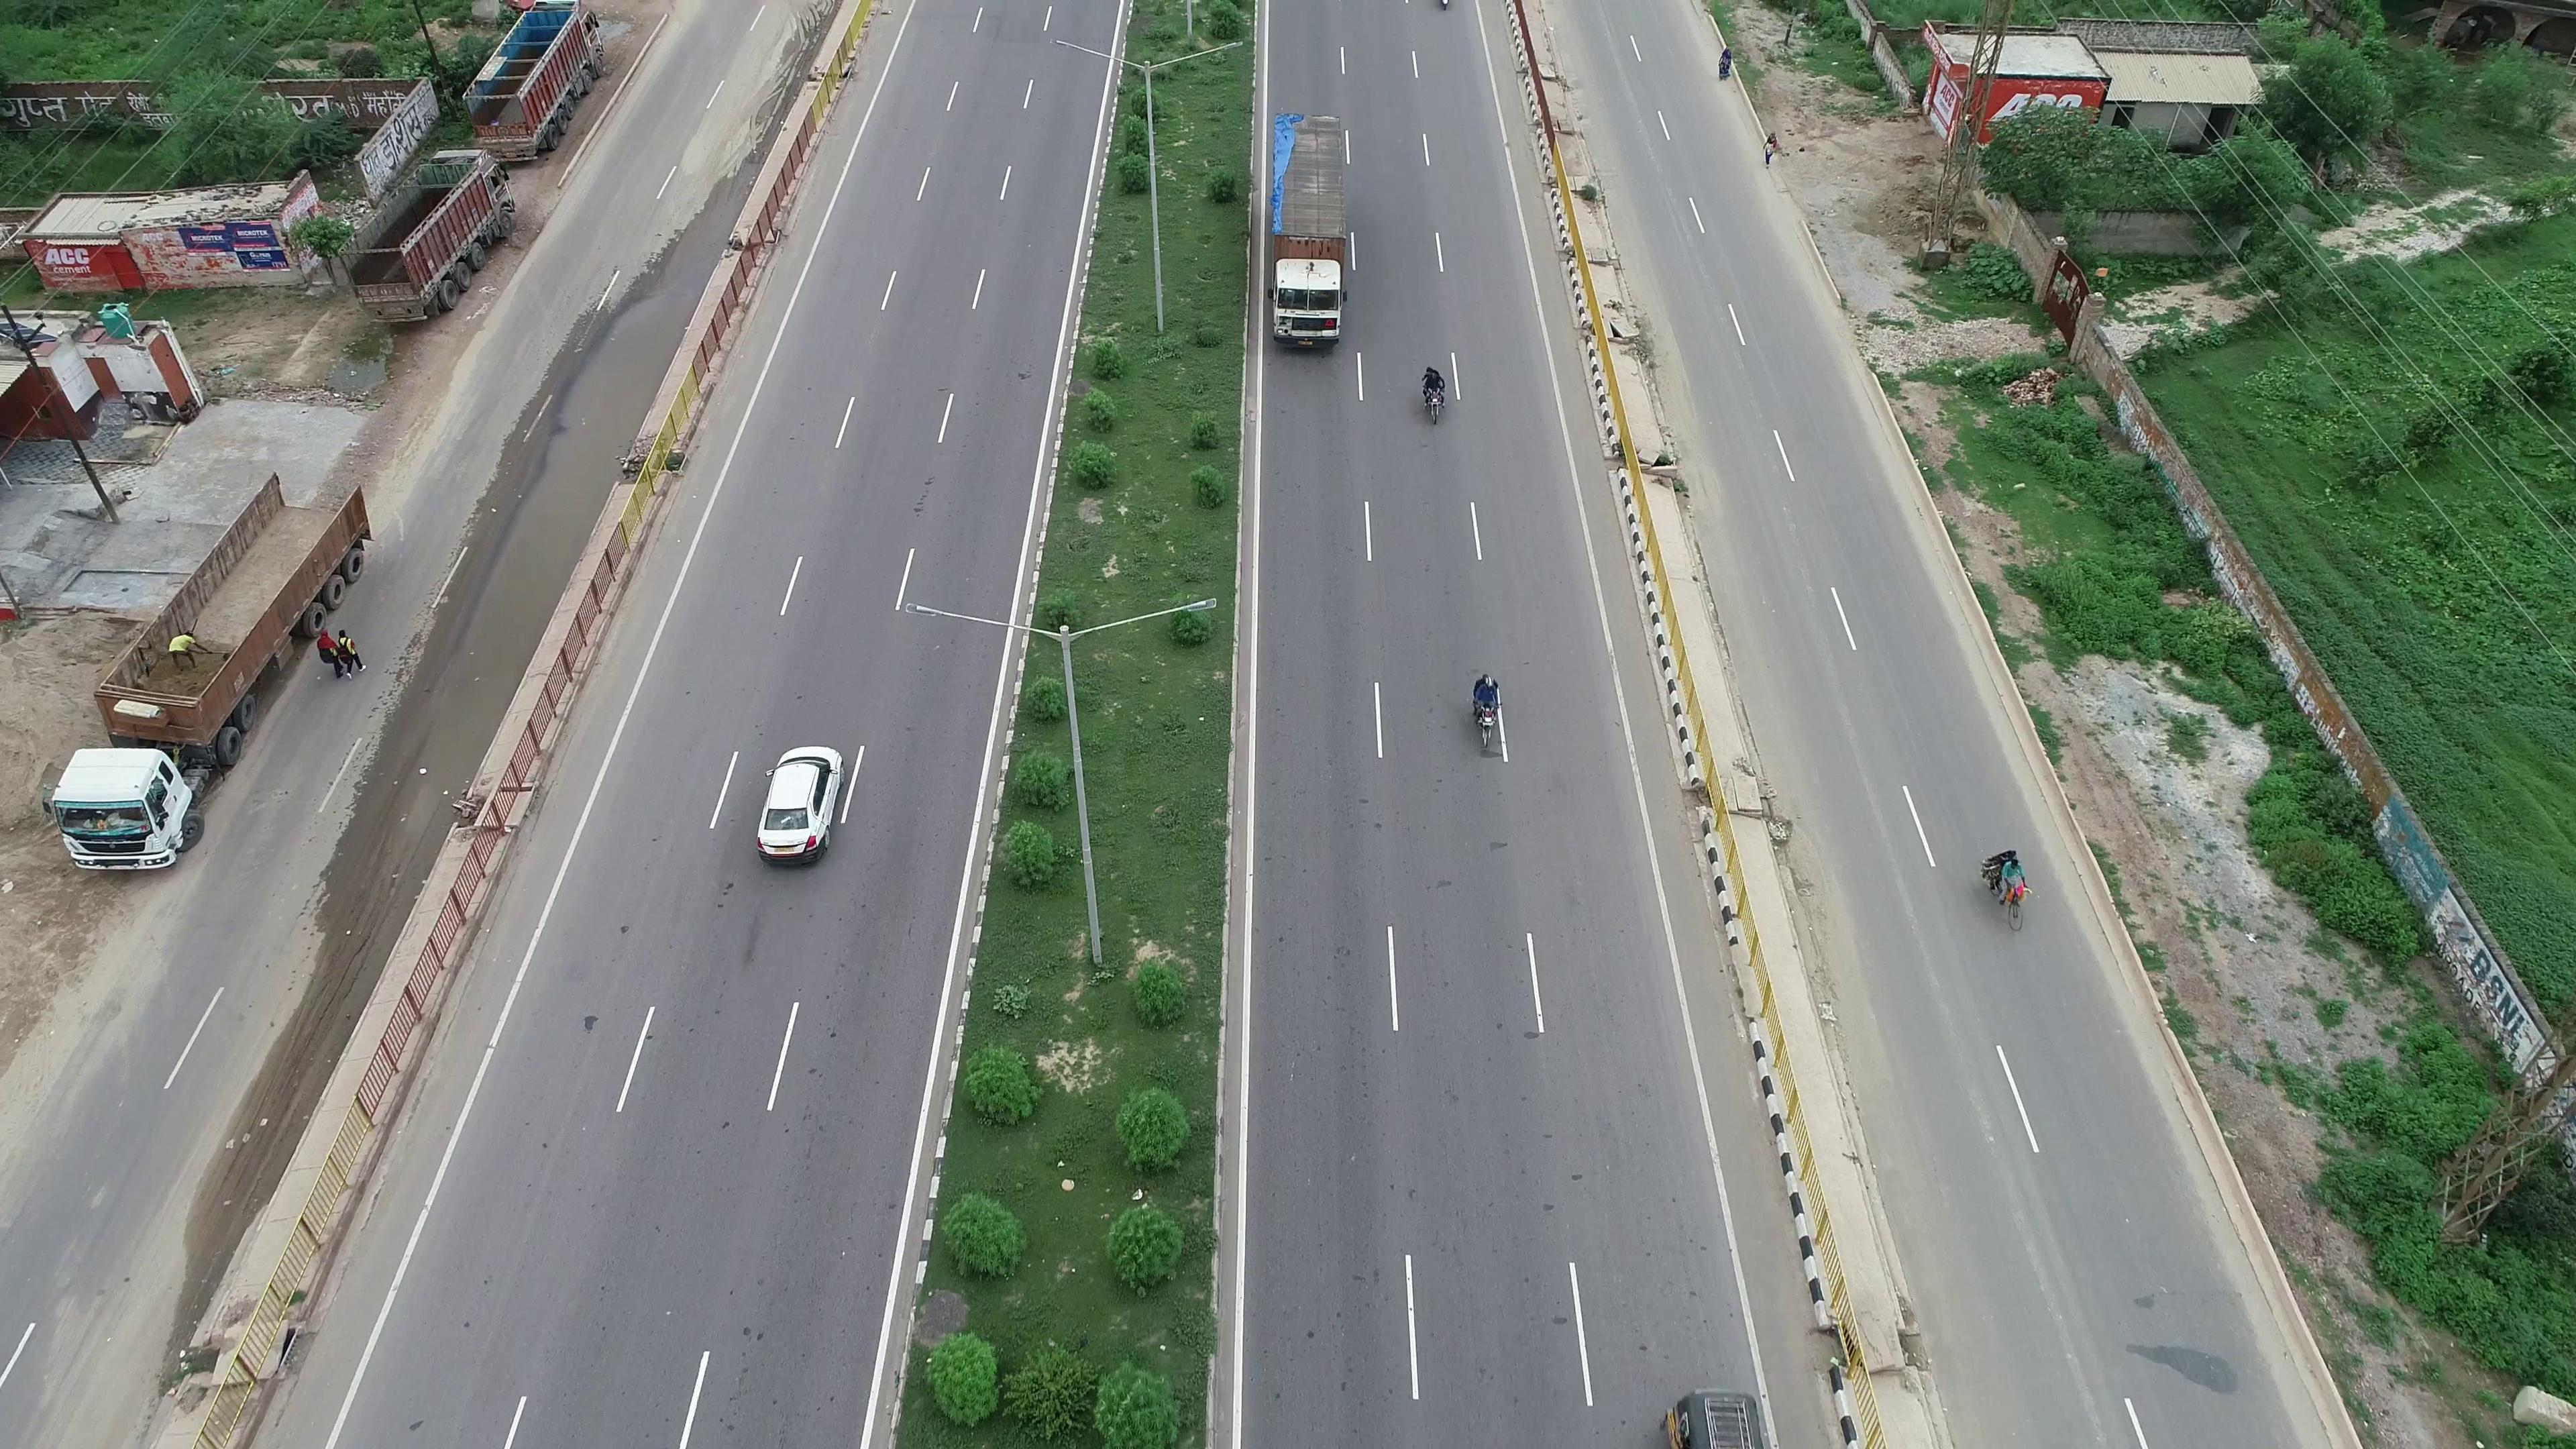Waterlogging: (409, 301, 662, 777)
